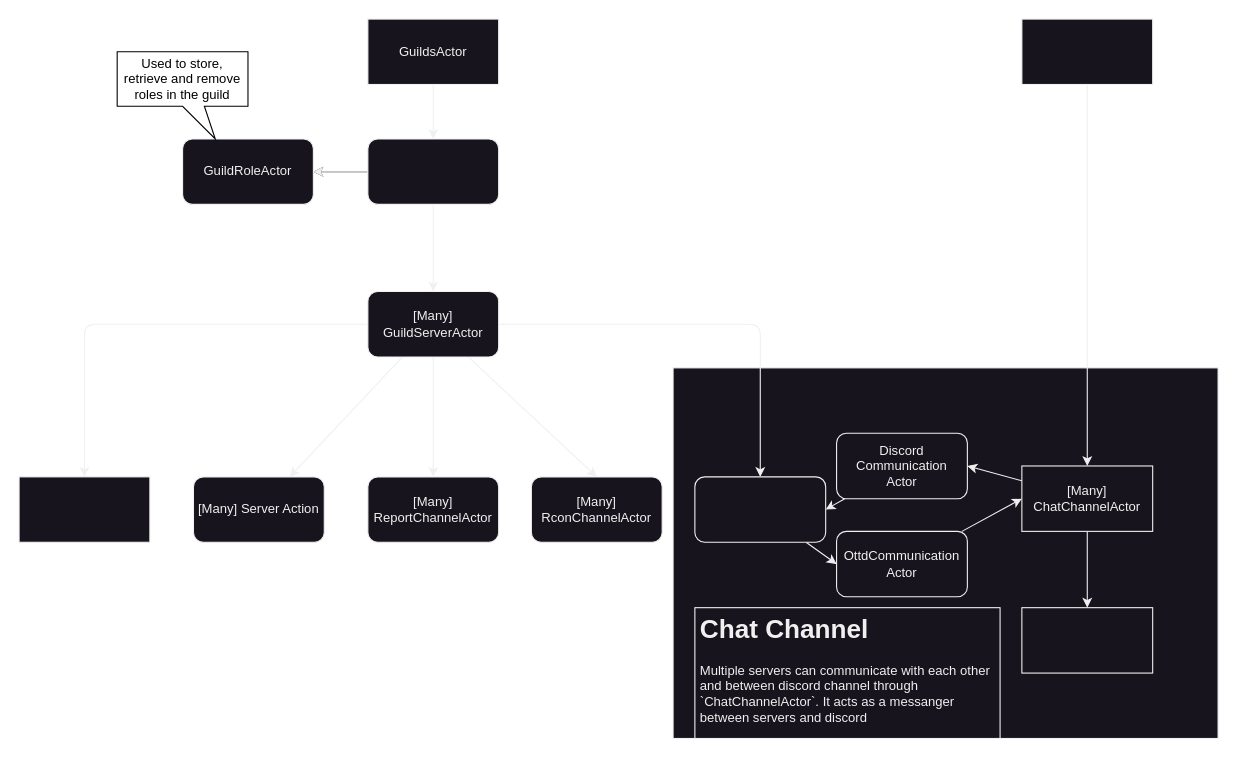
Some shapes in this 1237 by 758 pixel diagram are drawn without their labels. The shapes that lost their labels are listed below. From the top down, each one's box as (x1, y1, x2, y2) in pixels, then its label:
(1021, 18, 1153, 84): ChatChannelActors
(367, 138, 499, 204): [Many] GuildActor
(18, 476, 150, 542): ChatStorageActor
(694, 476, 826, 542): [Many] ServerChatActor
(1021, 607, 1153, 673): Discord Channel Actor
